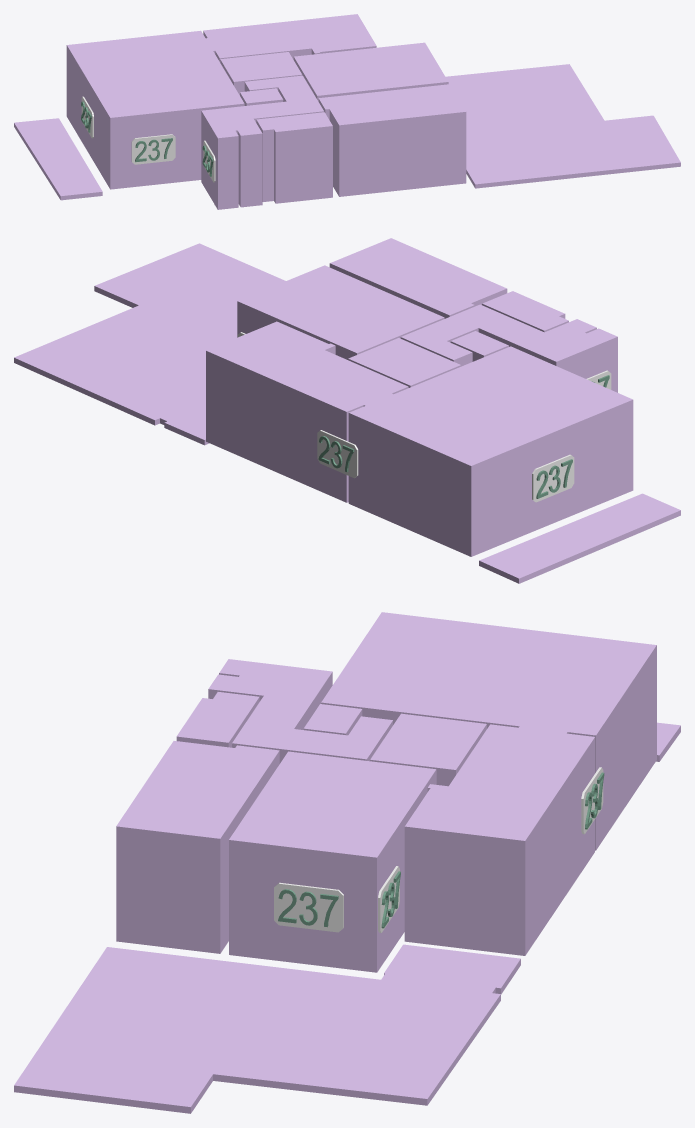
3 views of the same model, one above another, from view 1: azimuth 30°, elevation 25°; view 2: azimuth 150°, elevation 25°; view 3: azimuth 270°, elevation 25° (orthographic). The views are drawn at different scales.
Visible parts, largest first — view 1: g_7, g_9, g_0, g_5, g_6, g_1, g_2, g_8, g_3, g_29, g_4; view 2: g_7, g_9, g_2, g_1, g_5, g_0, g_8, g_3, g_6, g_17, g_21, g_4; view 3: g_9, g_7, g_2, g_1, g_0, g_5, g_3, g_6, g_25, g_4.
Boxes of the visible parts, left/top/right/bottom form: g_7: left=66, top=30, right=244, bottom=189; g_9: left=445, top=64, right=680, bottom=188; g_0: left=318, top=84, right=466, bottom=196; g_5: left=201, top=75, right=324, bottom=209; g_6: left=256, top=112, right=332, bottom=203; g_1: left=293, top=42, right=448, bottom=101; g_2: left=203, top=14, right=376, bottom=62; g_8: left=14, top=118, right=102, bottom=200; g_3: left=220, top=52, right=302, bottom=95; g_29: left=131, top=134, right=175, bottom=164; g_4: left=240, top=88, right=283, bottom=105; g_7: left=348, top=346, right=633, bottom=556; g_9: left=14, top=243, right=285, bottom=445; g_2: left=206, top=321, right=408, bottom=502; g_1: left=237, top=265, right=444, bottom=359; g_5: left=400, top=304, right=617, bottom=392; g_0: left=329, top=238, right=507, bottom=318; g_8: left=479, top=493, right=680, bottom=583; g_3: left=348, top=338, right=461, bottom=387; g_6: left=482, top=291, right=568, bottom=332; g_17: left=532, top=454, right=574, bottom=502; g_21: left=317, top=430, right=358, bottom=478; g_4: left=450, top=331, right=508, bottom=361; g_9: left=14, top=944, right=520, bottom=1113; g_7: left=321, top=612, right=656, bottom=850; g_2: left=404, top=724, right=594, bottom=955; g_1: left=229, top=751, right=436, bottom=972; g_0: left=116, top=741, right=279, bottom=953; g_5: left=208, top=659, right=392, bottom=763; g_3: left=370, top=713, right=486, bottom=786; g_6: left=176, top=692, right=259, bottom=747; g_25: left=274, top=882, right=343, bottom=932; g_4: left=303, top=704, right=362, bottom=735.
Bounding box in the file's own units: 19.84 × 2.74 × 13.52.
